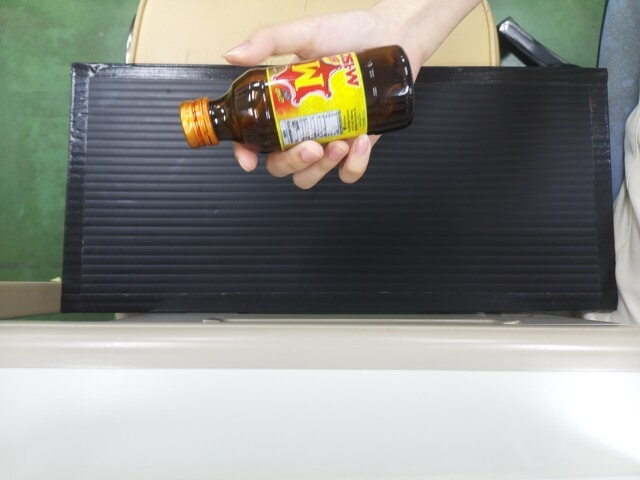glass_bottle: (176, 66, 412, 139)
